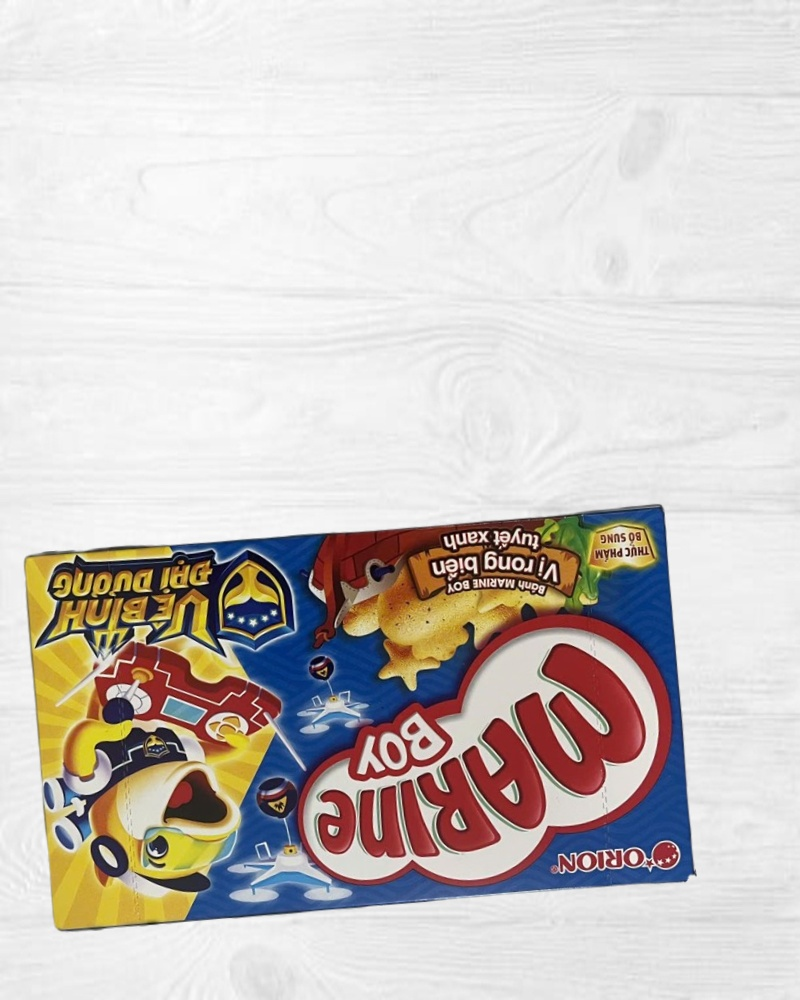Marine: (21, 500, 697, 937)
